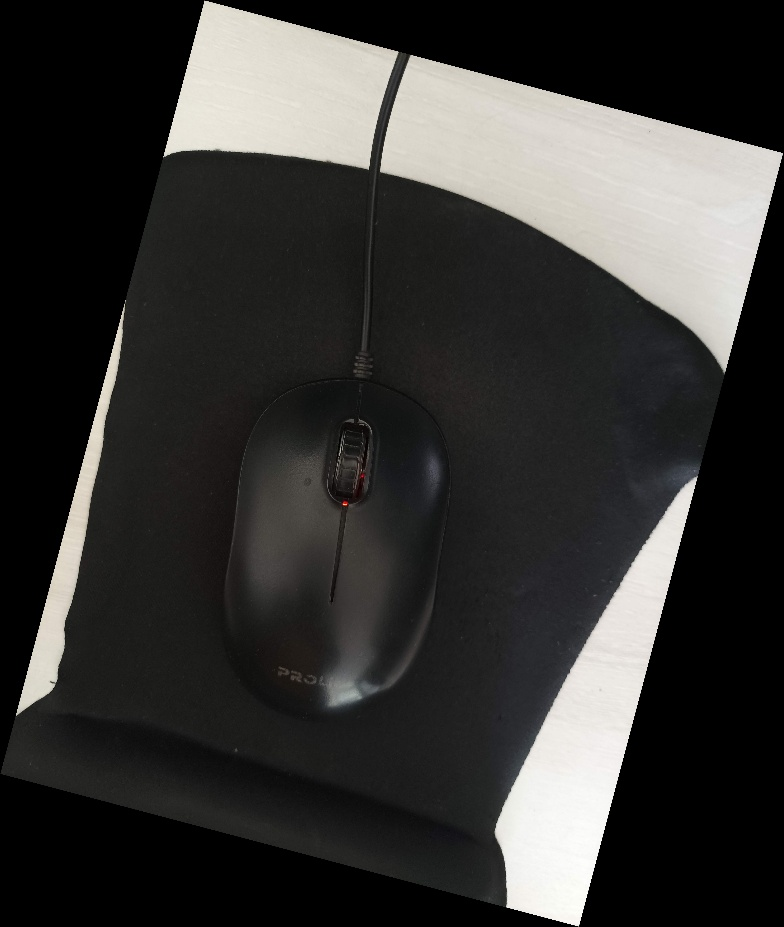mouse: (216, 365, 455, 720)
